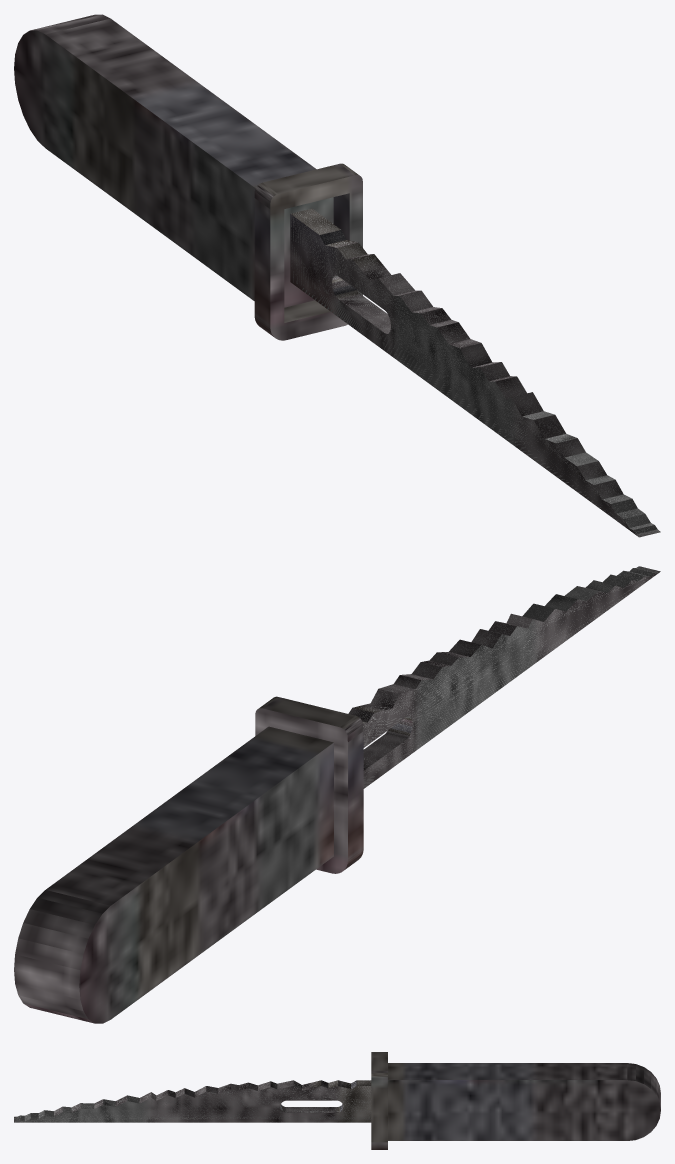
The model's file is model_align.obj.
The picture shows the model from 3 angles, top to bottom: view 1: azimuth 30°, elevation 25°; view 2: azimuth 150°, elevation 25°; view 3: azimuth 270°, elevation 25°; orthographic projection. The views are drawn at different scales.
Parts seen in each view (by area): view 1: mesh1_mesh1-geometry; view 2: mesh1_mesh1-geometry; view 3: mesh1_mesh1-geometry.
Boxes of the visible parts, bbox=[...] form: mesh1_mesh1-geometry: bbox=[14, 14, 660, 537]; mesh1_mesh1-geometry: bbox=[14, 566, 660, 1023]; mesh1_mesh1-geometry: bbox=[14, 1052, 660, 1149].
Size of the model in its own units: 0.02 by 0.0307 by 0.2264.
3 materials, 2 textured.
